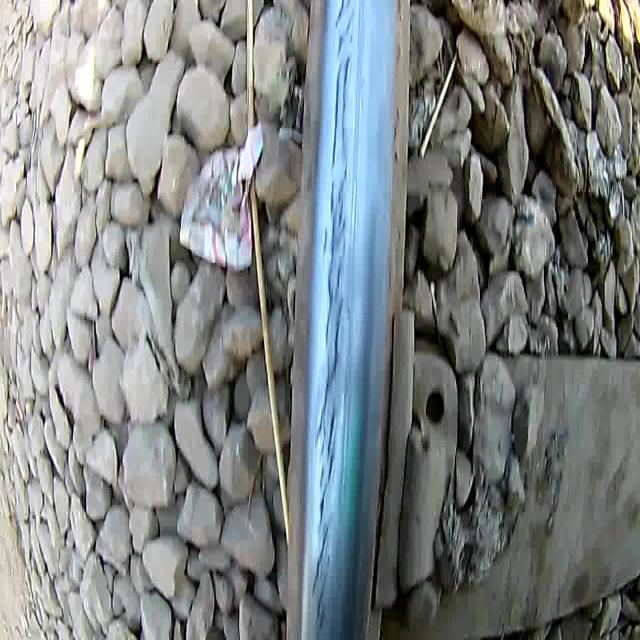Cracks: (308, 0, 358, 640)
Grooves: (336, 0, 368, 518)
